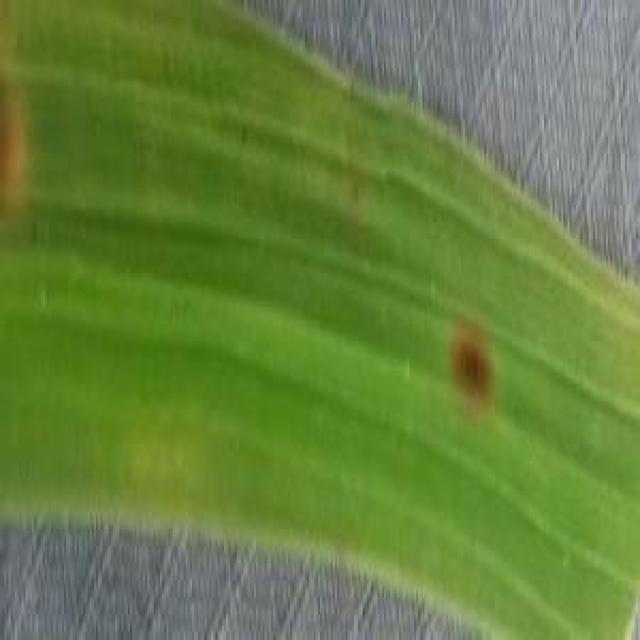Brown_Spot: (448, 326, 520, 420)
